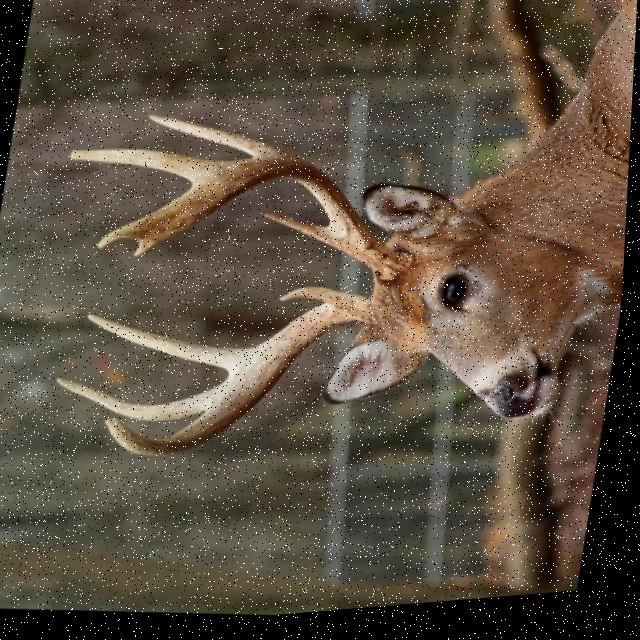E1: (133, 242, 160, 259)
L-F: (97, 162, 412, 287)
L-G1: (264, 218, 334, 251)
L-G2: (148, 118, 303, 164)
L-G3: (70, 151, 221, 187)
R-F: (107, 302, 381, 460)
R-G1: (279, 292, 364, 320)
R-G2: (88, 316, 252, 375)
R-G3: (58, 379, 230, 425)
